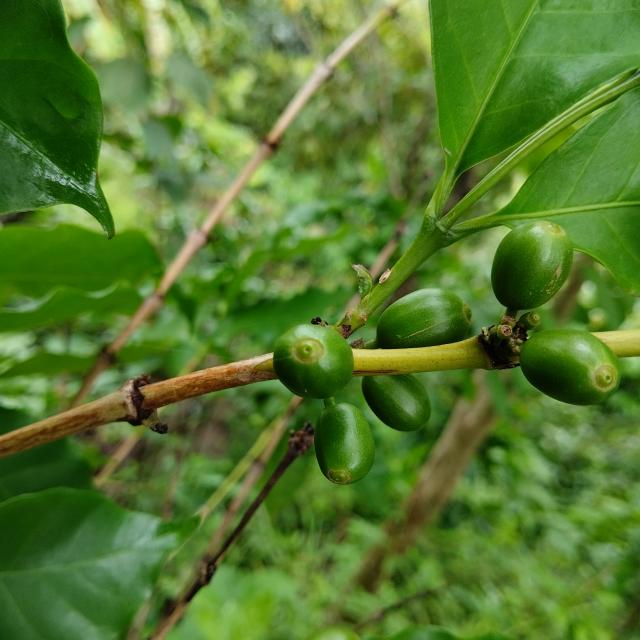green: (520, 329, 621, 406), (492, 221, 574, 310), (273, 324, 354, 399), (377, 288, 472, 349), (314, 403, 375, 485), (362, 374, 431, 432)
